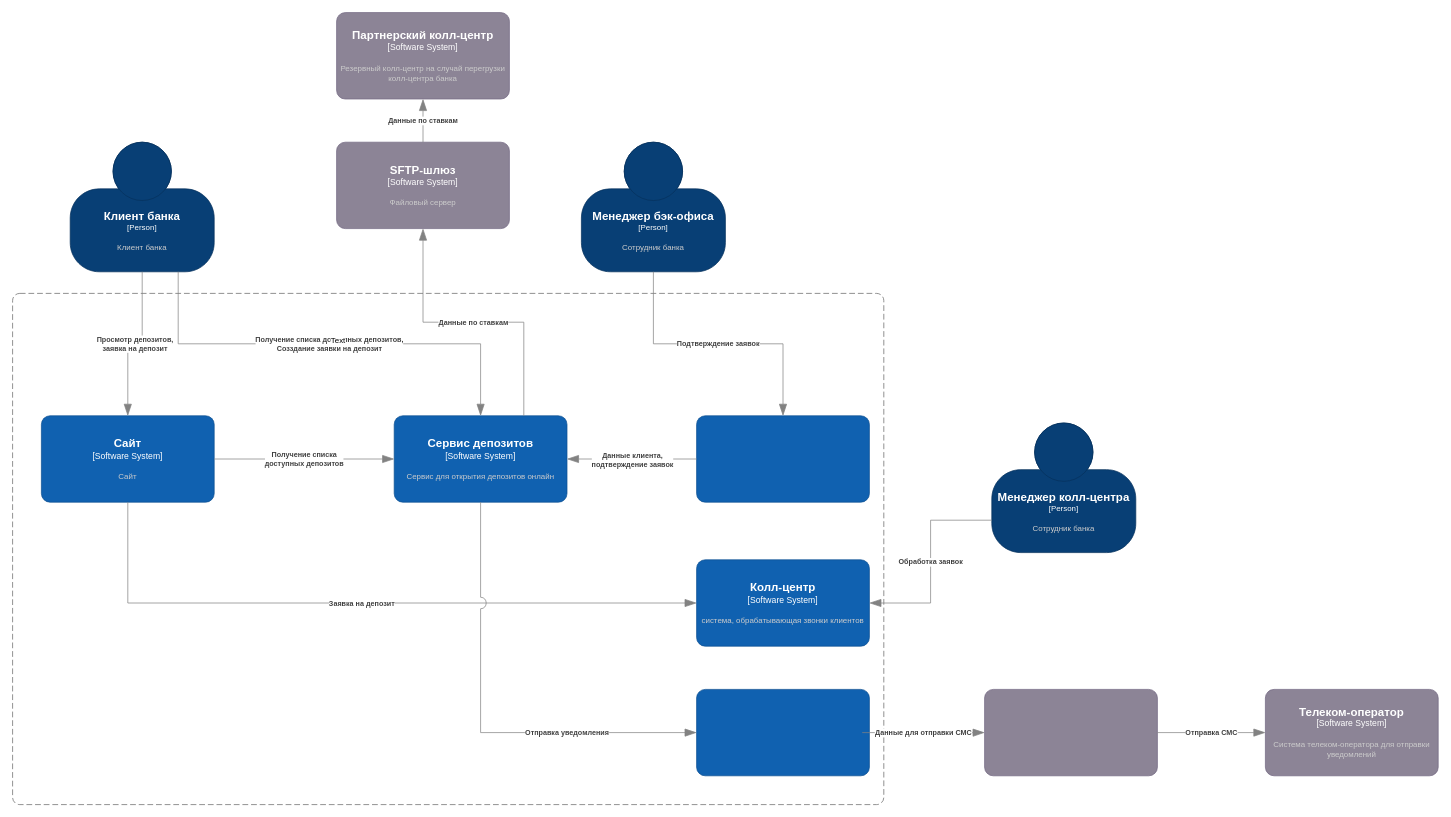
The diagram is 1451 pixels wide and 817 high, and some of its shapes have lost their labels. Here are the shapes that lost their labels. From the top down, the box of each, then its label:
(696, 415, 869, 502): АБС [Software System] Автоматизированная банковская система
(12, 293, 884, 805): Банк Стандарт [Software System]
(696, 689, 869, 776): СМС-шлюз [Software System] Система отправки СМС
(984, 689, 1157, 776): СМС-шлюз телеком-оператора [Software System] Интеграция с СМС-шлюзом банка
